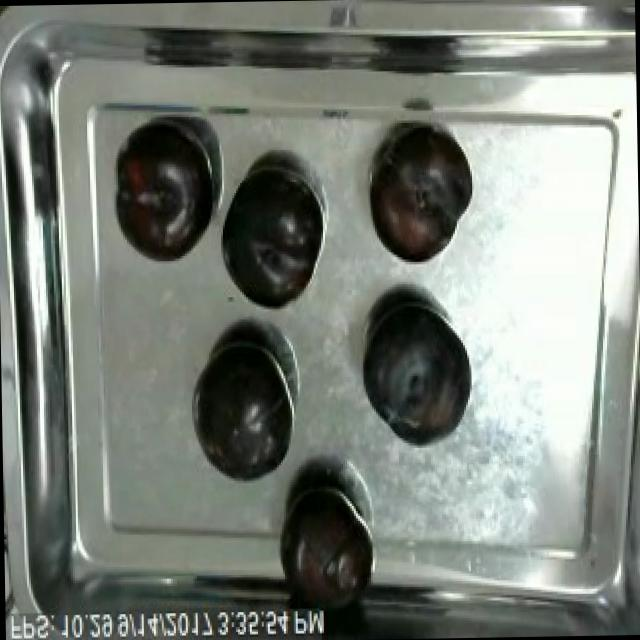Fruit: (356, 290, 474, 451), (188, 332, 297, 487), (215, 163, 326, 314), (110, 118, 220, 269), (365, 124, 473, 268), (273, 472, 377, 616)
